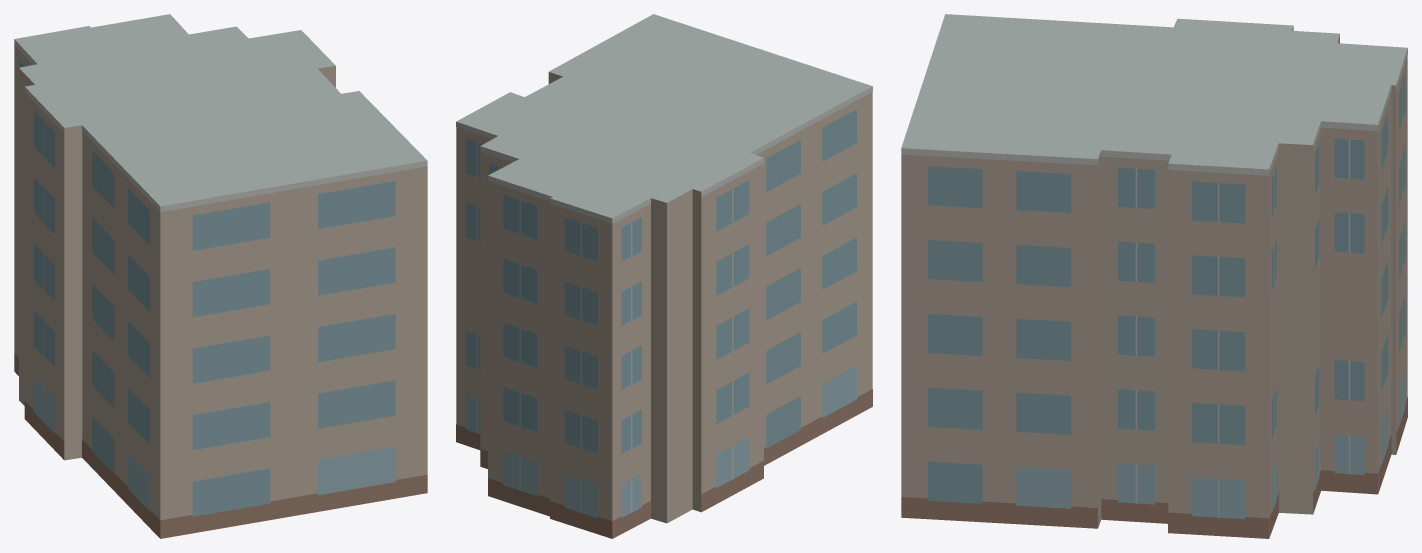
Rendered from survey-upis-32713126.glb.
3 views of the same model, side by side, from view 1: azimuth 30°, elevation 25°; view 2: azimuth 150°, elevation 25°; view 3: azimuth 270°, elevation 25° (orthographic). The views are drawn at different scales.
Parts seen in each view (by area): view 1: survey-upis-32713126.tmp; view 2: survey-upis-32713126.tmp; view 3: survey-upis-32713126.tmp.
Boxes of the visible parts, left/top/right/bottom form: survey-upis-32713126.tmp: left=14, top=14, right=427, bottom=538; survey-upis-32713126.tmp: left=456, top=14, right=872, bottom=538; survey-upis-32713126.tmp: left=901, top=14, right=1407, bottom=538.
Bounding box in the file's own units: 12.91 × 14.3 × 17.78.
